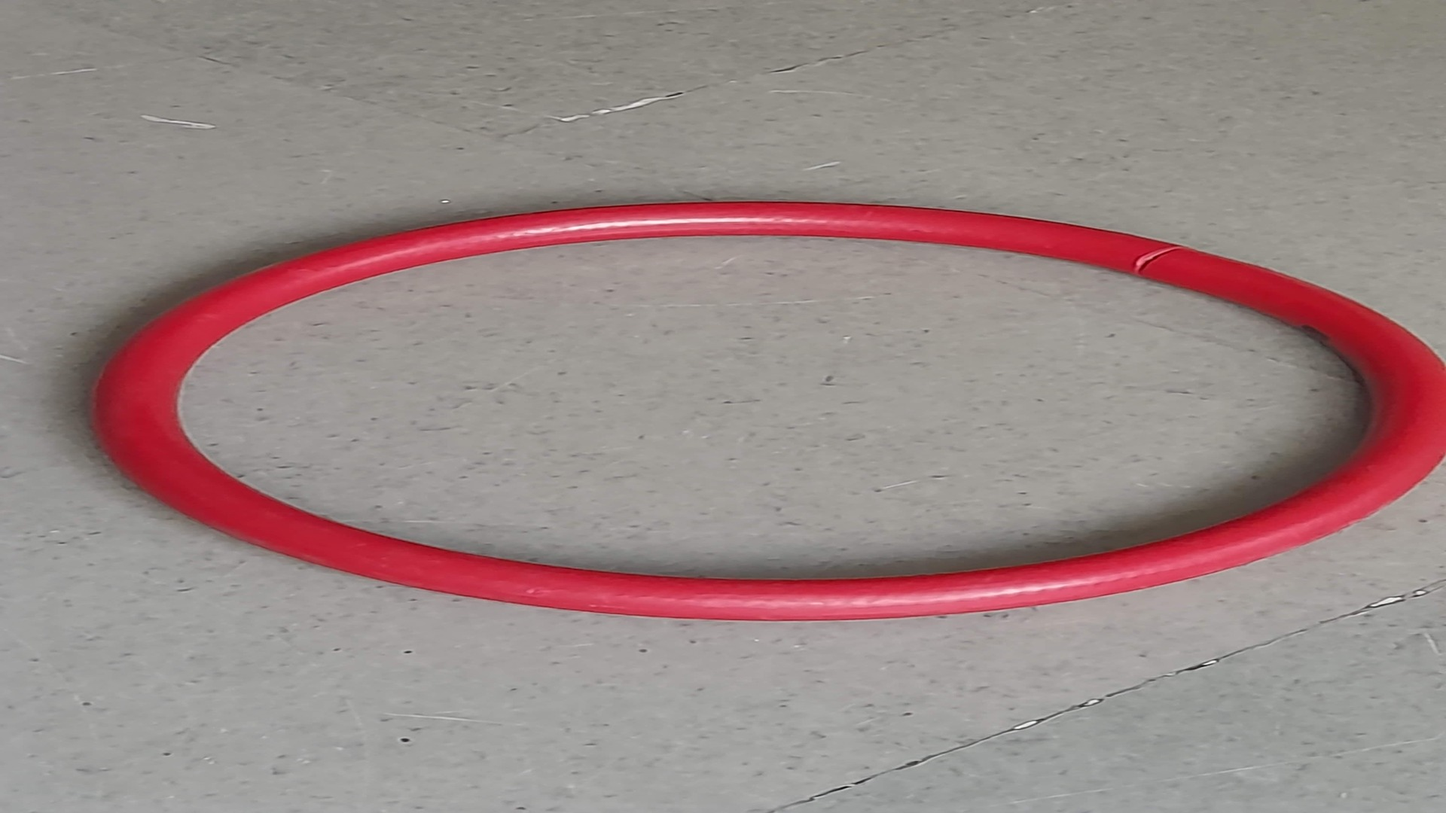Red ring: (84, 199, 1434, 616)
